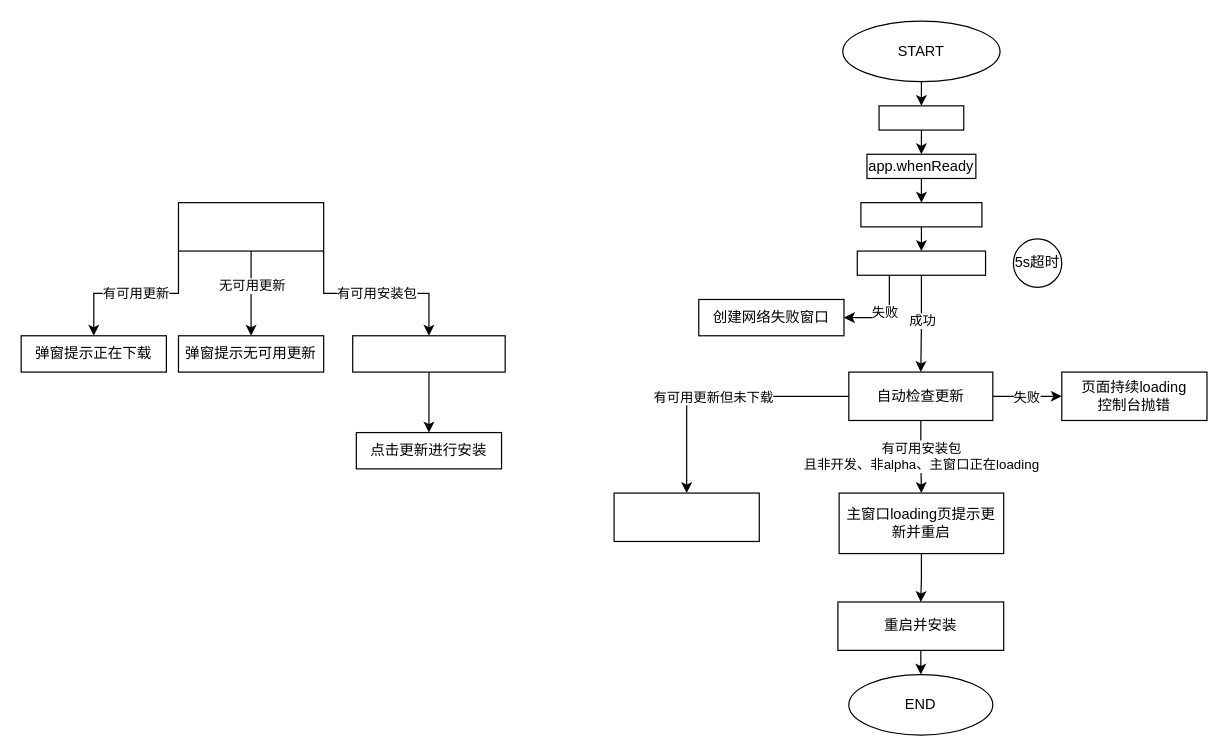
This 1228x756 diagram has some shape labels left out. The shapes that lost their labels are listed below. From the top down, each one's centre as x and y in pixels, then its label:
At (921,117): "启动客户端".
At (250,226): "手动更新".
At (921,214): "创建主窗口".
At (921,262): "网络检查".
At (428,353): "打开更新公告弹窗".
At (686,516): "后台下载安装包".
